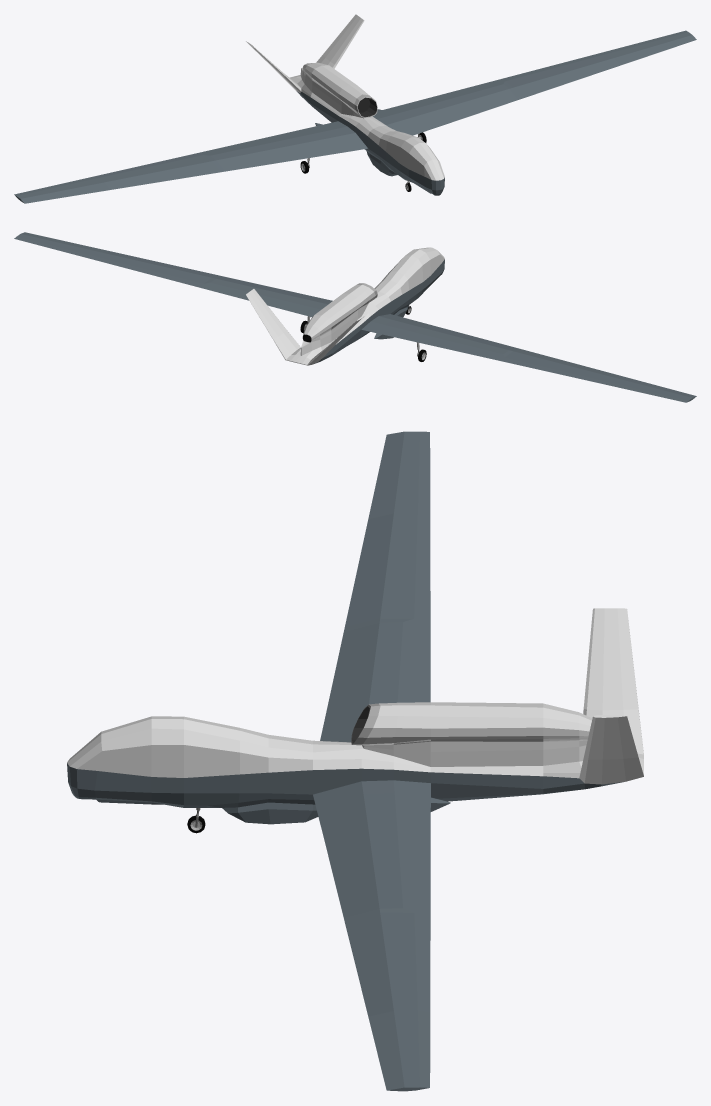
3 renders of one model, top to bottom at view 1: azimuth 30°, elevation 25°; view 2: azimuth 150°, elevation 25°; view 3: azimuth 270°, elevation 25°, orthographic. The views are drawn at different scales.
Parts seen in each view (by area): view 1: Circle.022, Circle.031, Circle.024, Circle.030, Circle.025; view 2: Circle.022, Circle.024, Circle.031, Circle.030, Circle.025; view 3: Circle.022, Circle.031, Circle.024, Circle.025, Circle.030, Circle.032.
Boxes of the visible parts, bbox=[...] form: Circle.022: bbox=[14, 16, 696, 203]; Circle.031: bbox=[406, 80, 502, 108]; Circle.024: bbox=[204, 131, 302, 155]; Circle.030: bbox=[501, 52, 607, 81]; Circle.025: bbox=[95, 153, 202, 177]; Circle.022: bbox=[14, 232, 696, 402]; Circle.024: bbox=[406, 332, 502, 359]; Circle.031: bbox=[204, 282, 301, 312]; Circle.030: bbox=[95, 257, 202, 287]; Circle.025: bbox=[501, 357, 607, 384]; Circle.022: bbox=[67, 431, 643, 1091]; Circle.031: bbox=[397, 822, 430, 909]; Circle.024: bbox=[397, 622, 430, 702]; Circle.025: bbox=[414, 513, 430, 619]; Circle.030: bbox=[414, 913, 430, 1011]; Circle.032: bbox=[617, 608, 638, 709].
Bounding box in the file's own units: 3843 × 467 × 1429.
